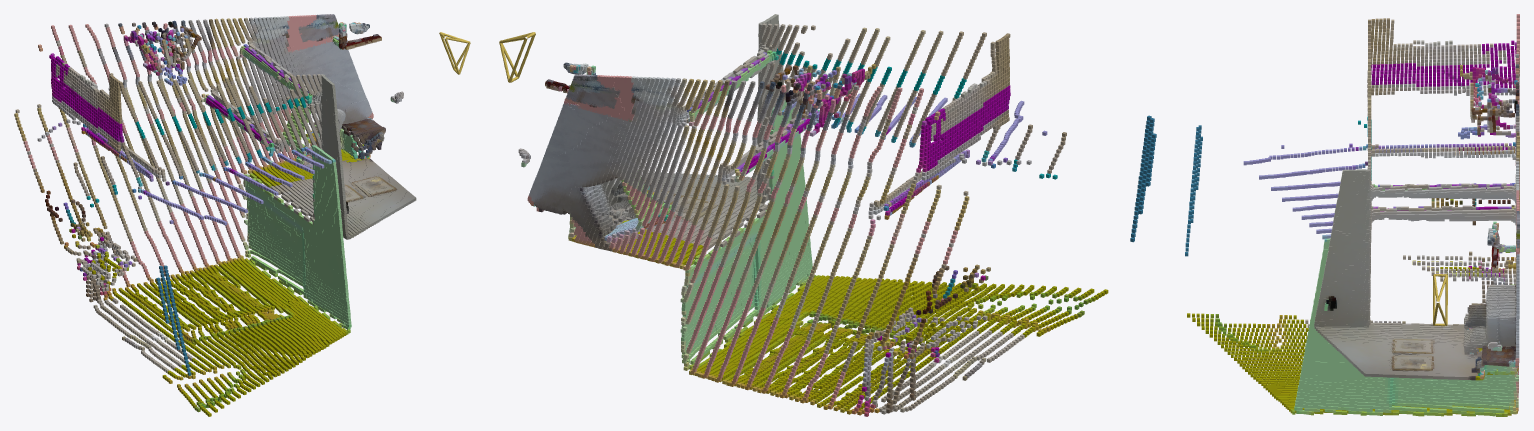
3 views of the same model, side by side, from view 1: azimuth 30°, elevation 25°; view 2: azimuth 150°, elevation 25°; view 3: azimuth 270°, elevation 25° (orthographic). The views are drawn at different scales.
Size of the model in its own units: 8.64 by 5.47 by 5.39.
